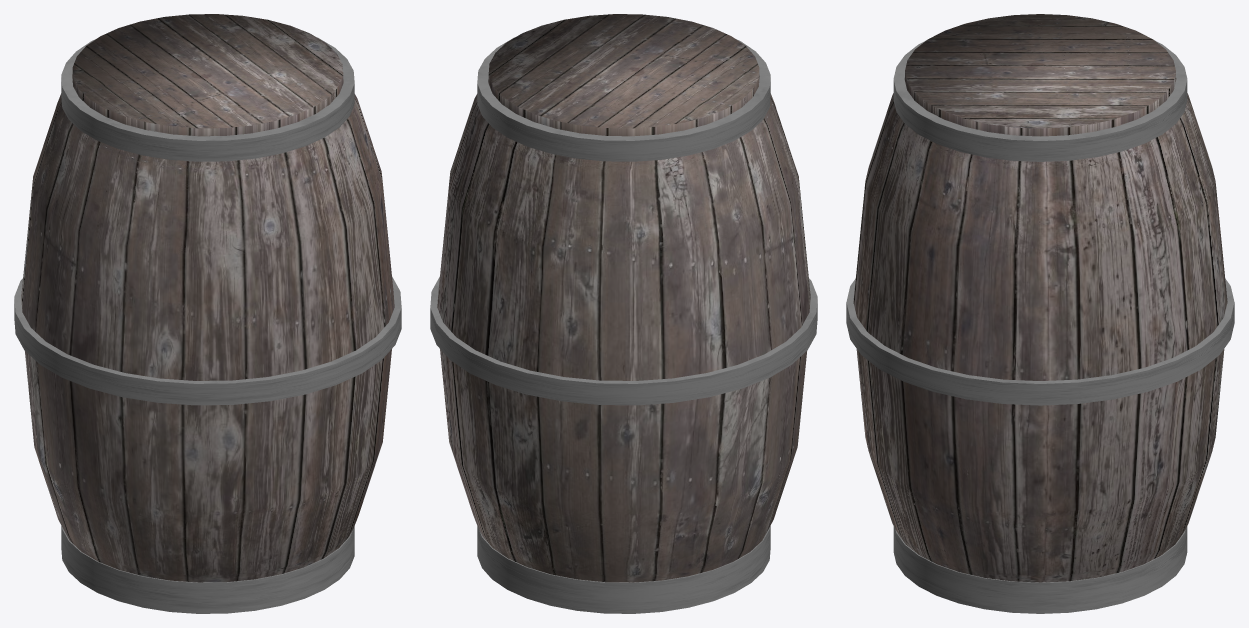
Rendered from barrel.fbx.
The picture shows the model from 3 angles, left to right: view 1: azimuth 30°, elevation 25°; view 2: azimuth 150°, elevation 25°; view 3: azimuth 270°, elevation 25°; orthographic projection.
Visible parts, largest first — view 1: Cylinder, Cylinder.003, Cylinder.001, Cylinder.002; view 2: Cylinder, Cylinder.003, Cylinder.001, Cylinder.002; view 3: Cylinder, Cylinder.003, Cylinder.001, Cylinder.002.
Part boxes in pixels (left/top/right/bottom): Cylinder: left=21, top=14, right=394, bottom=582; Cylinder.003: left=14, top=276, right=401, bottom=405; Cylinder.001: left=61, top=526, right=354, bottom=613; Cylinder.002: left=61, top=37, right=354, bottom=161; Cylinder: left=437, top=14, right=810, bottom=582; Cylinder.003: left=430, top=276, right=817, bottom=405; Cylinder.001: left=477, top=526, right=770, bottom=613; Cylinder.002: left=477, top=37, right=770, bottom=161; Cylinder: left=853, top=14, right=1227, bottom=582; Cylinder.003: left=846, top=279, right=1234, bottom=405; Cylinder.001: left=893, top=526, right=1187, bottom=613; Cylinder.002: left=893, top=40, right=1187, bottom=161.
Bounding box in the file's own units: 222 × 303 × 222.
